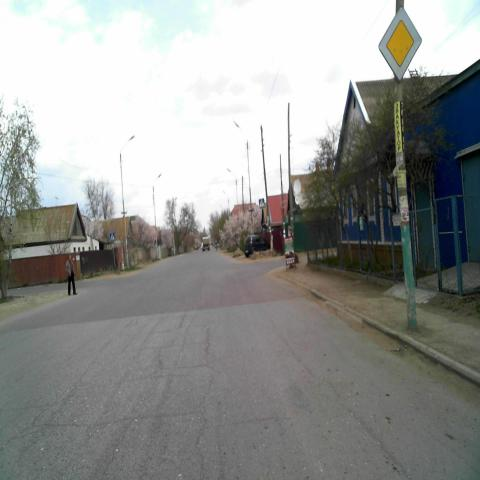2_1: (376, 8, 424, 82)
5_19_1: (258, 196, 266, 209), (110, 231, 116, 241)
